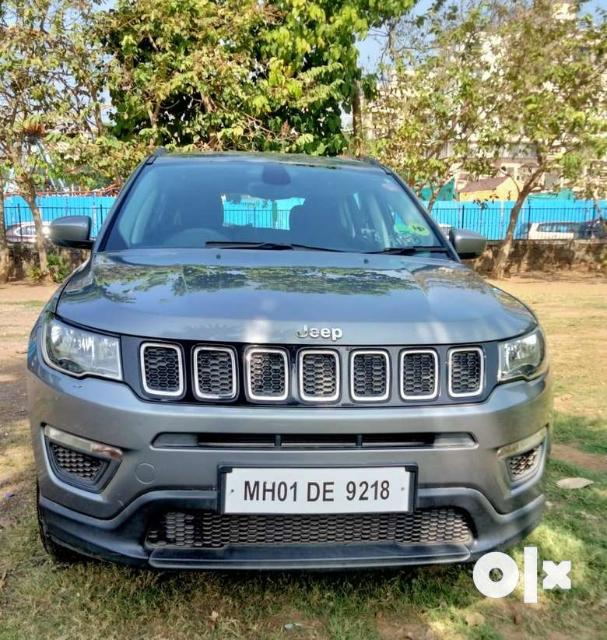Indian_Number_Plate: (220, 462, 418, 518)
